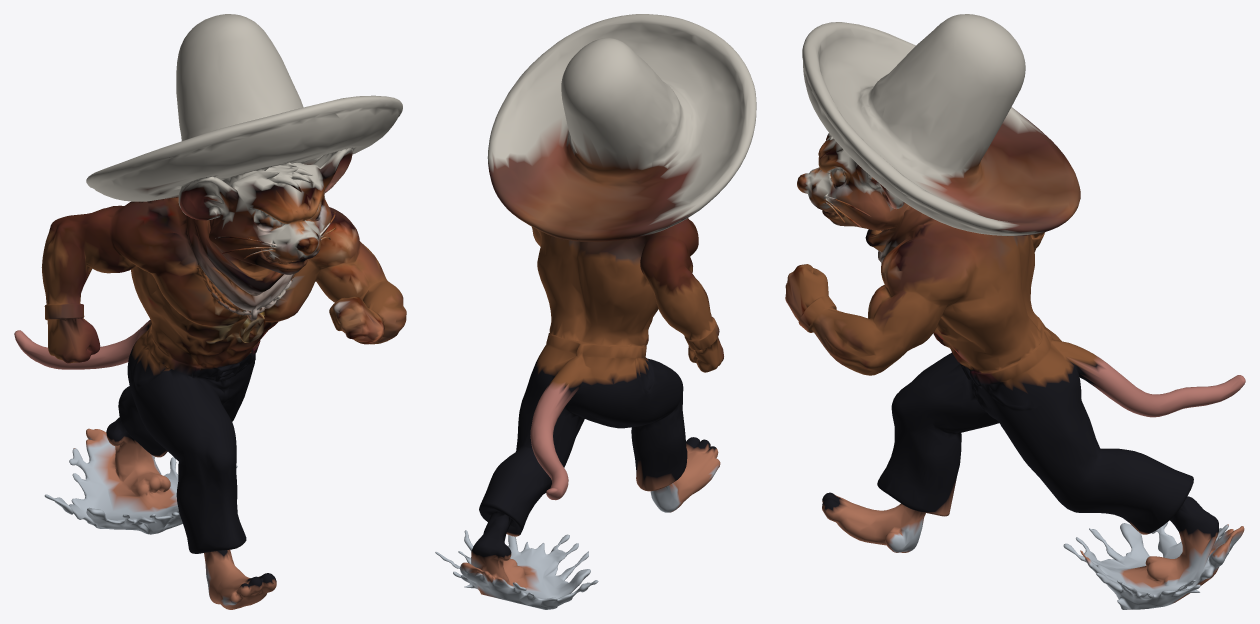
Rendered from rat.glb.
3 renders of one model, left to right at view 1: azimuth 30°, elevation 25°; view 2: azimuth 150°, elevation 25°; view 3: azimuth 270°, elevation 25°, orthographic. The views are drawn at different scales.
Size of the model in its own units: 103 by 190 by 140.
